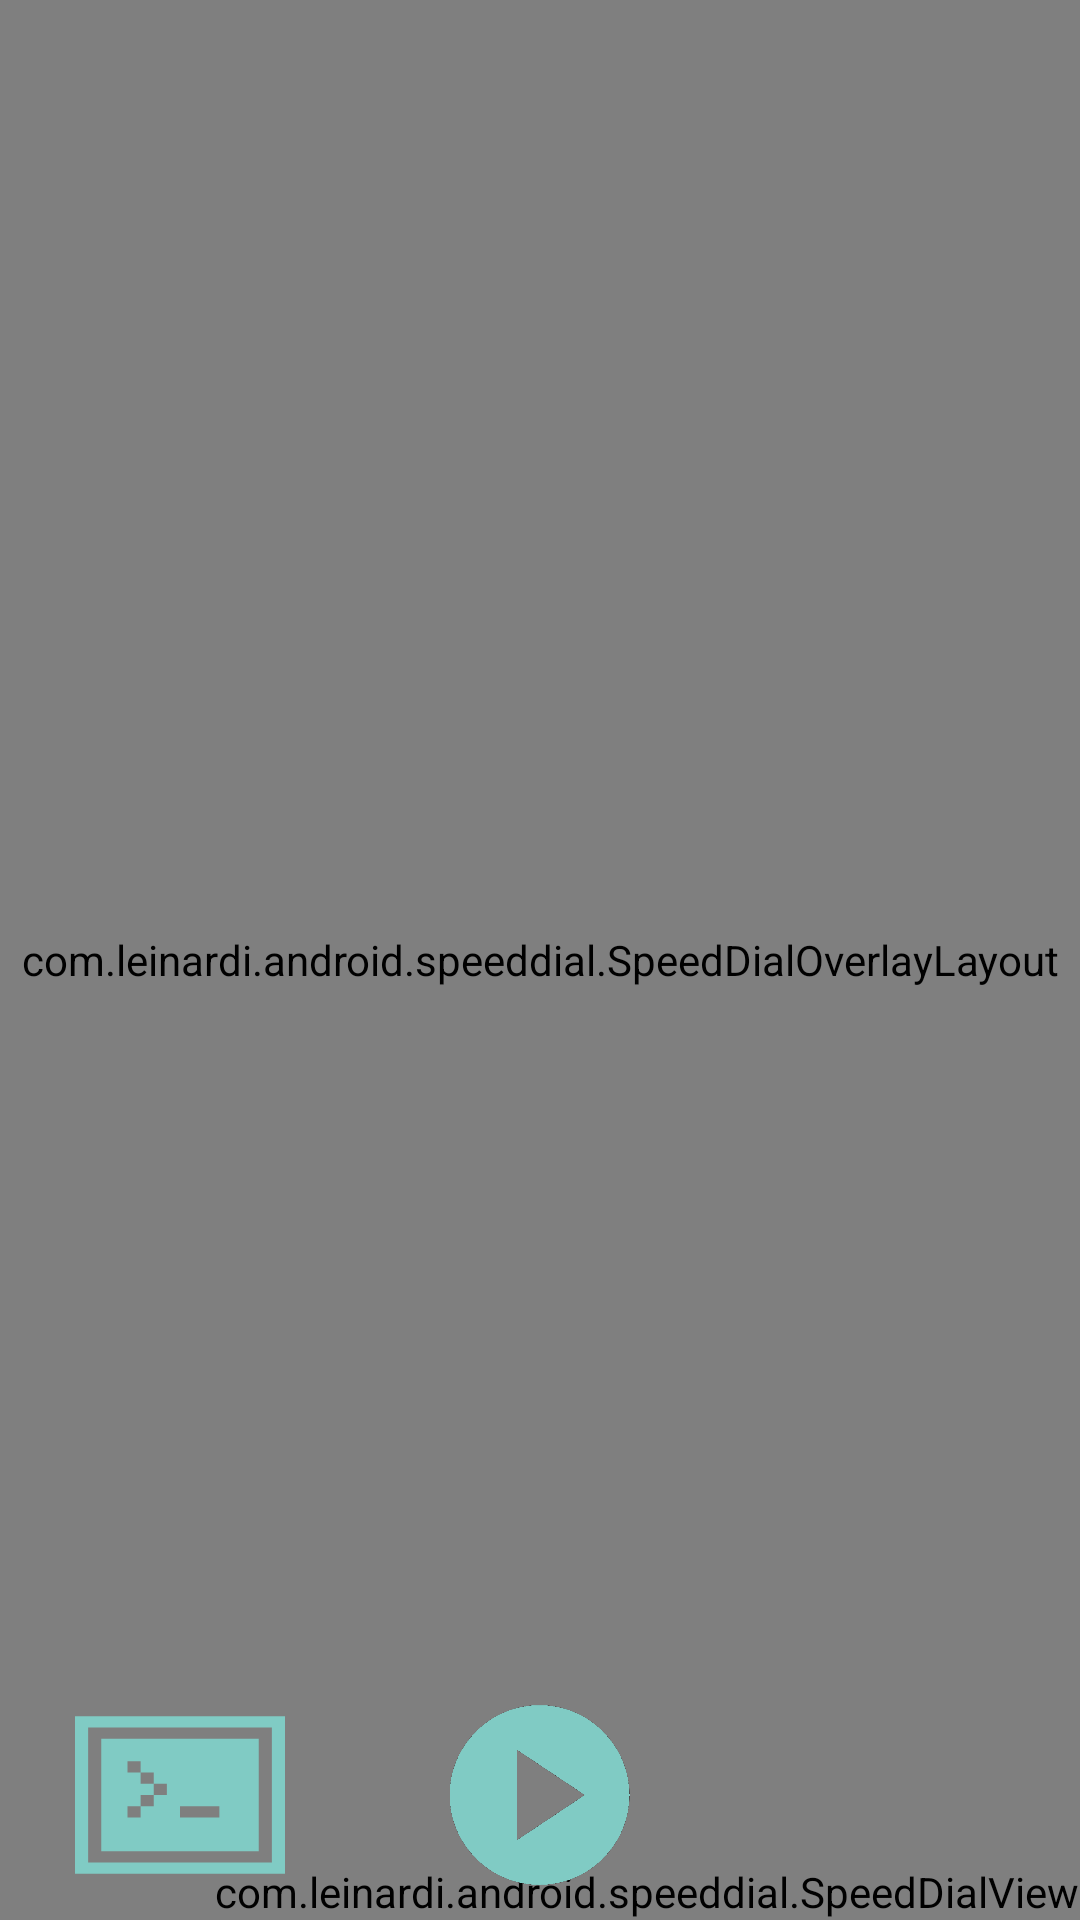

Where icons sit on this 1080px×1920px app screen, as (x1, y1, x2, y2):
console: (75, 1716, 285, 1874)
run: (428, 1705, 630, 1885)
